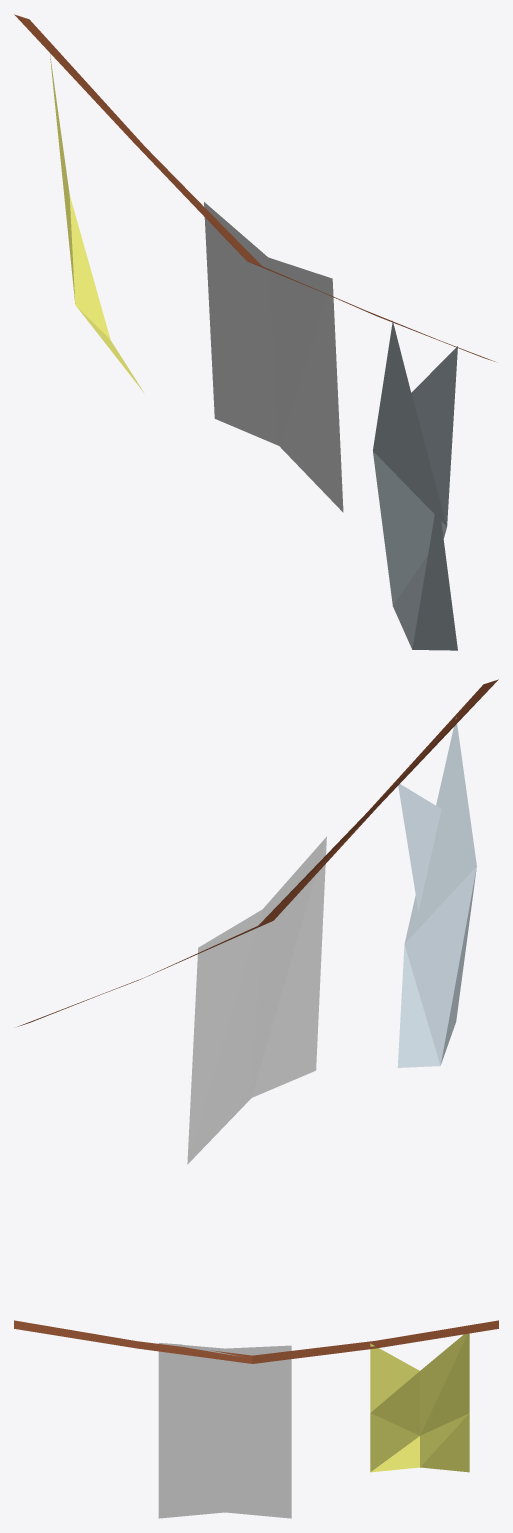
Rendered from Wäscheleine [Bunt]_2274.glb.
3 renders of one model, top to bottom at view 1: azimuth 30°, elevation 25°; view 2: azimuth 150°, elevation 25°; view 3: azimuth 270°, elevation 25°, orthographic. The views are drawn at different scales.
Visible parts, largest first — view 1: pPlaneShape106, pPlaneShape105, pPlaneShape104, pPlaneShape103; view 2: pPlaneShape106, pPlaneShape105, pPlaneShape103; view 3: pPlaneShape106, pPlaneShape104, pPlaneShape103.
Part boxes in pixels (left/top/right/bottom): pPlaneShape106: left=204, top=202, right=343, bottom=512; pPlaneShape105: left=373, top=322, right=457, bottom=650; pPlaneShape104: left=50, top=54, right=143, bottom=392; pPlaneShape103: left=14, top=14, right=495, bottom=361; pPlaneShape106: left=187, top=836, right=326, bottom=1164; pPlaneShape105: left=397, top=717, right=476, bottom=1067; pPlaneShape103: left=17, top=679, right=498, bottom=1026; pPlaneShape106: left=158, top=1343, right=291, bottom=1518; pPlaneShape104: left=370, top=1333, right=469, bottom=1472; pPlaneShape103: left=14, top=1320, right=498, bottom=1363.
Size of the model in its own units: 0.0255 by 0.2139 by 0.4697.
